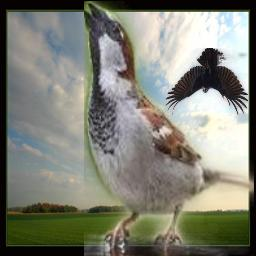Crow: (165, 48, 248, 116)
Sparrow: (84, 1, 254, 256)
